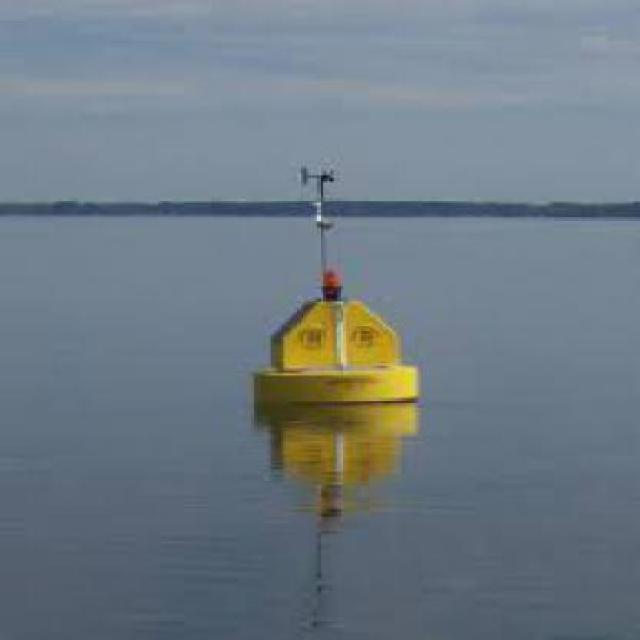buoy: (235, 157, 433, 420)
